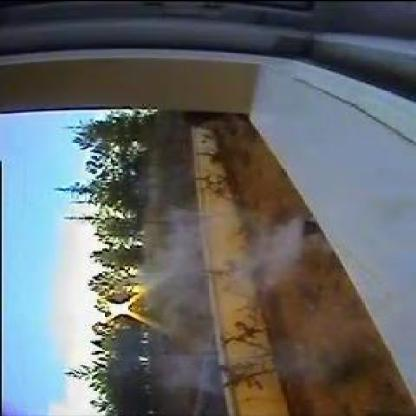-: (242, 219, 302, 285)
